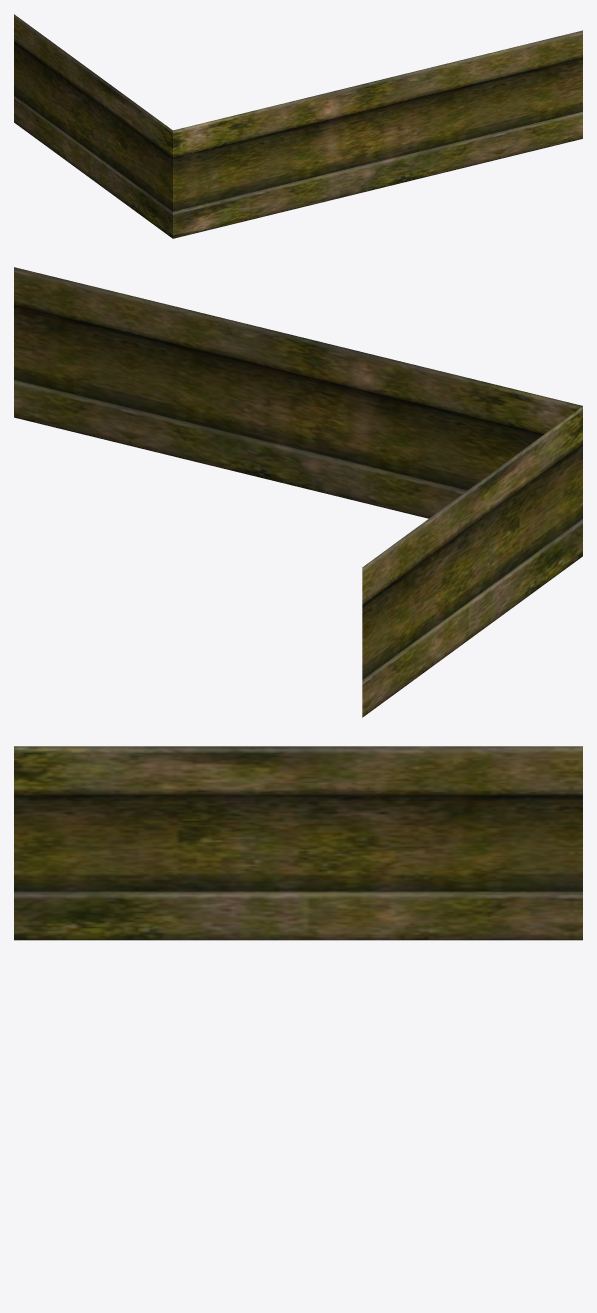
The model's file is OVERHILL_A_01_LINE211.fbx.
3 views of the same model, one above another, from view 1: azimuth 30°, elevation 25°; view 2: azimuth 150°, elevation 25°; view 3: azimuth 270°, elevation 25° (orthographic). The views are drawn at different scales.
Visible parts, largest first — view 1: OVERHILL_A_01_LINE211; view 2: OVERHILL_A_01_LINE211; view 3: OVERHILL_A_01_LINE211.
Boxes of the visible parts, box(x1,y1,x2,y2) form: OVERHILL_A_01_LINE211: box(14, 14, 582, 238); OVERHILL_A_01_LINE211: box(14, 267, 582, 717); OVERHILL_A_01_LINE211: box(14, 746, 582, 940).
Size of the model in its own units: 30000 by 7581 by 20148.
Materials: 1 (1 with a texture image).
